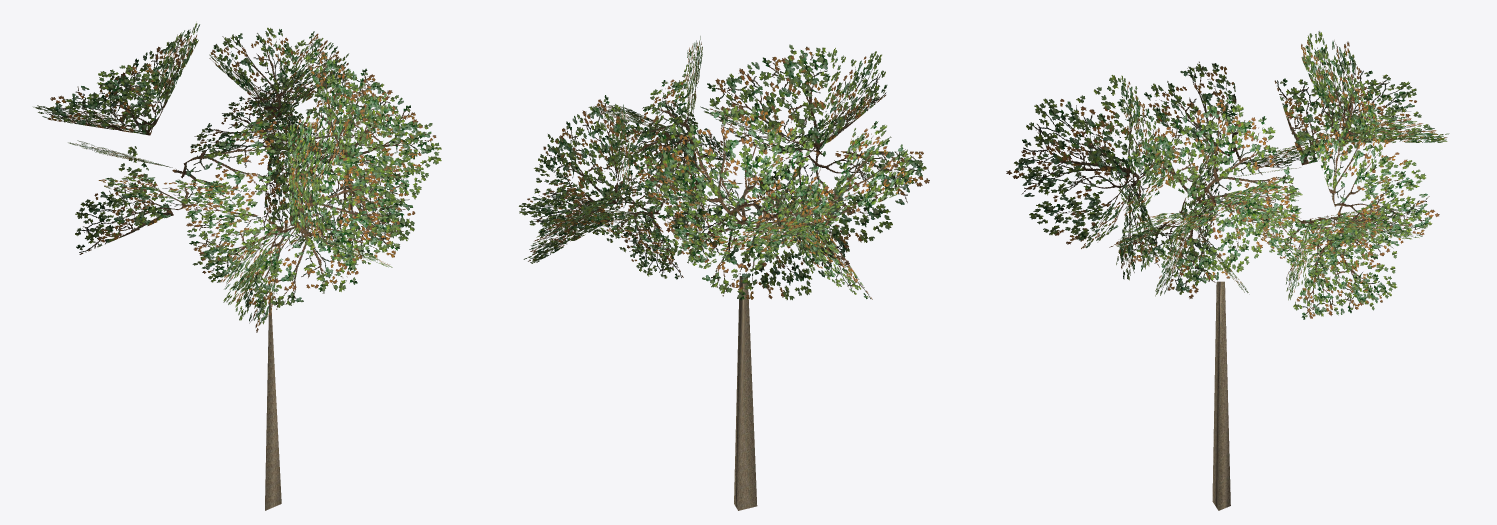
Rendered from decd_mapletreeleaves_a1_l3.fbx.
3 views of the same model, side by side, from view 1: azimuth 30°, elevation 25°; view 2: azimuth 150°, elevation 25°; view 3: azimuth 270°, elevation 25° (orthographic). The views are drawn at different scales.
Parts seen in each view (by area): view 1: mesh_node; view 2: mesh_node; view 3: mesh_node.
Boxes of the visible parts, x1,y1,x2,y2 form: mesh_node: (33, 23, 441, 510); mesh_node: (519, 36, 929, 510); mesh_node: (1006, 31, 1449, 510).
Size of the model in its own units: 15.69 by 18.7 by 18.41.
Materials: 2 (2 with a texture image).
